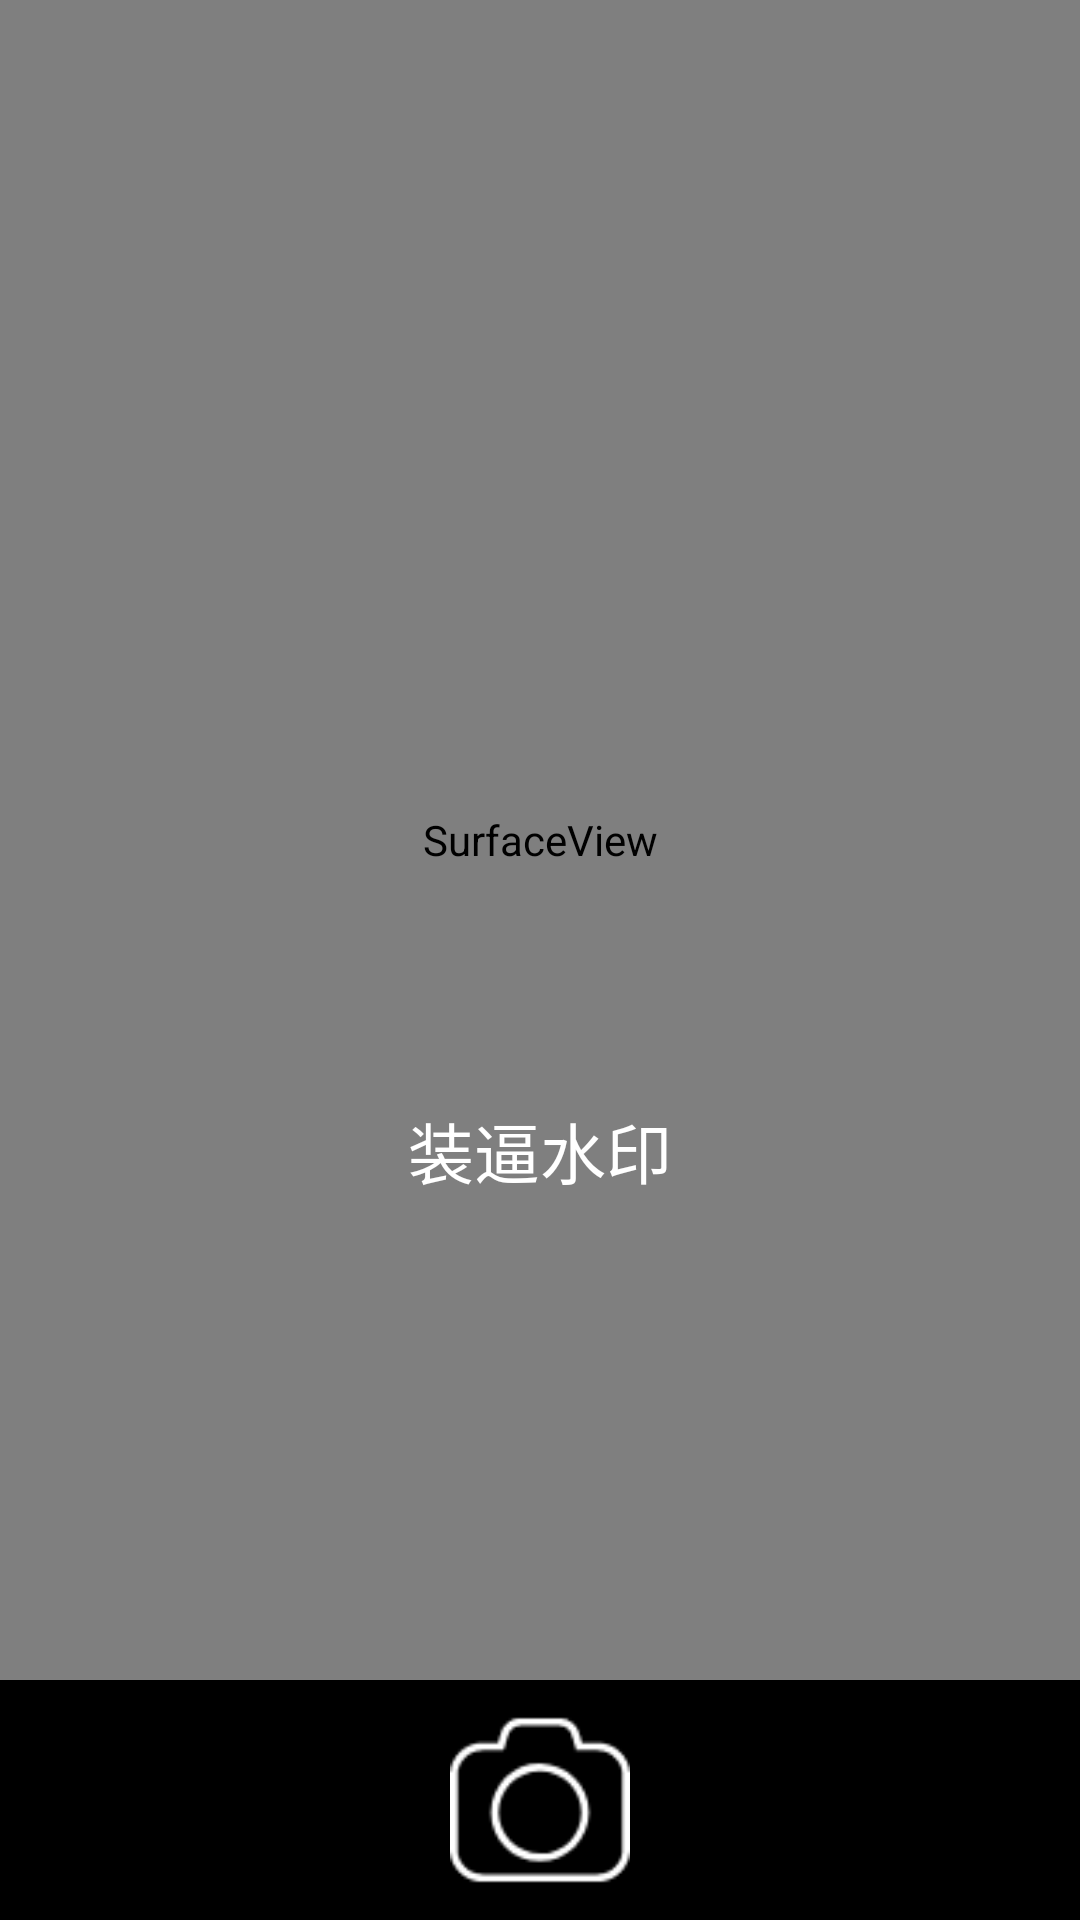

Point at icon controls on the screen. Image size 1080 x 1920, points as (x,y).
camerabtn: (540,1800)
